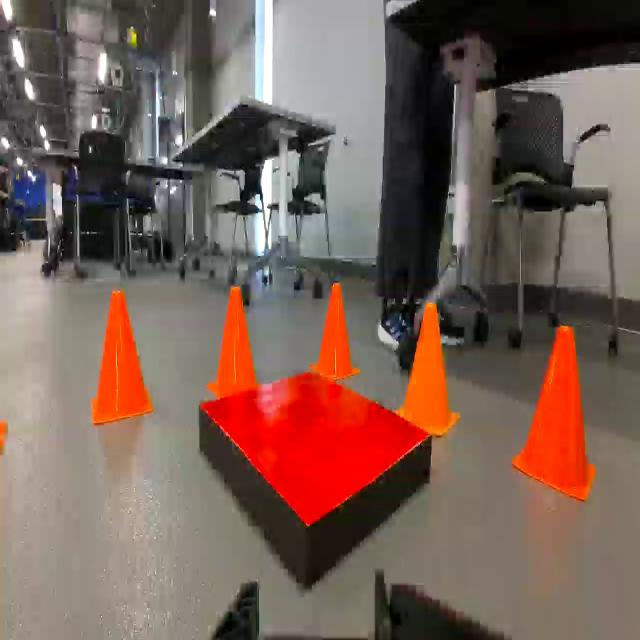cone: (534, 313, 588, 507), (405, 302, 457, 436), (100, 293, 149, 433), (216, 286, 258, 389), (314, 289, 358, 381)
red: (192, 374, 424, 574)
